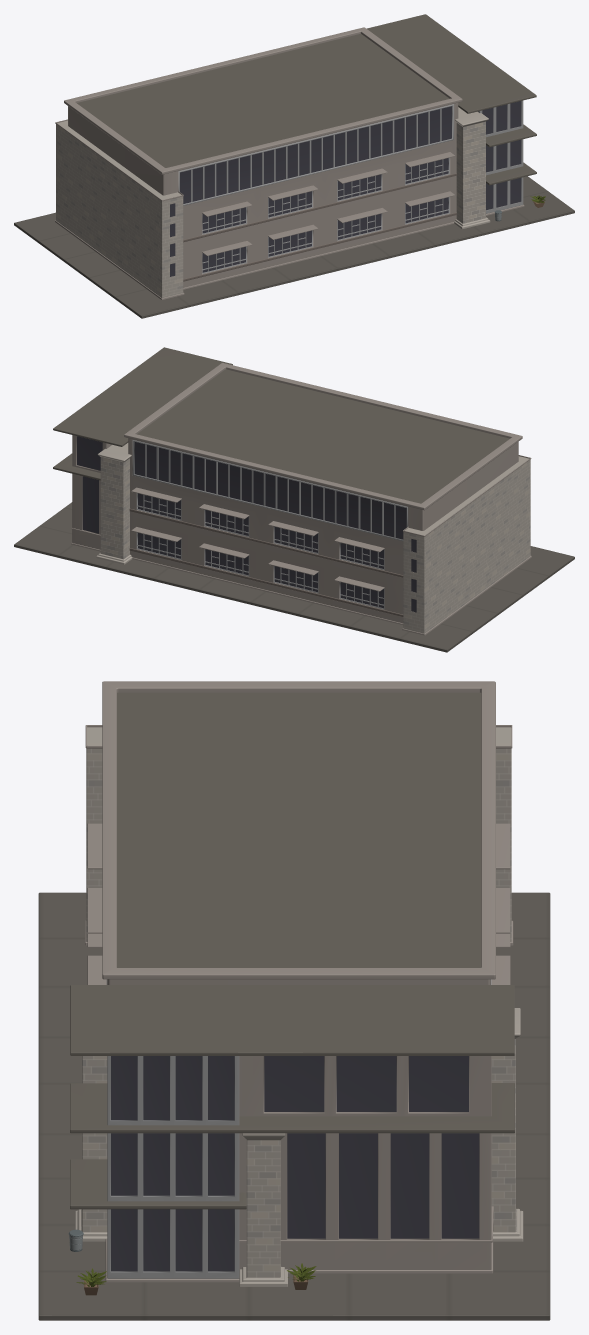
3 views of the same model, one above another, from view 1: azimuth 30°, elevation 25°; view 2: azimuth 150°, elevation 25°; view 3: azimuth 270°, elevation 25° (orthographic). The views are drawn at different scales.
Visible parts, largest first — view 1: office_building.1; view 2: office_building.1; view 3: office_building.1.
Boxes of the visible parts, x1,y1,x2,y2 form: office_building.1: (14,14,574,318); office_building.1: (14,347,574,652); office_building.1: (38,681,550,1320).
Bounding box in the file's own units: 8.85 × 2.46 × 4.53.
Materials: 1 (1 with a texture image).
